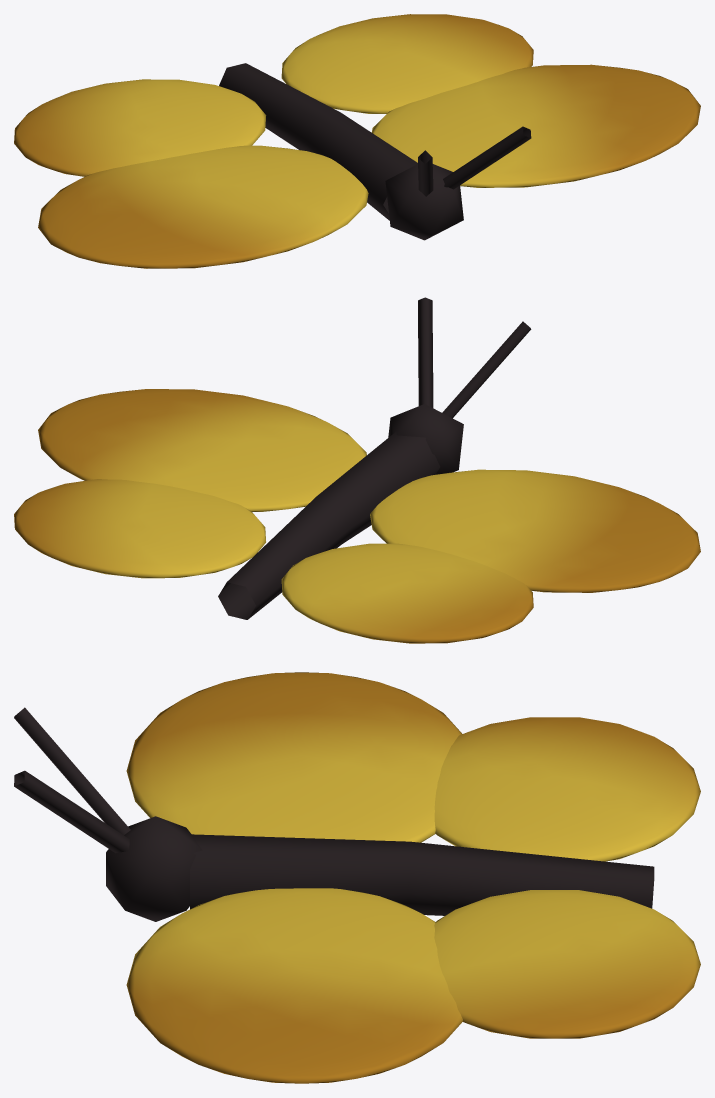
File: critter_butterfly0.glb
The picture shows the model from 3 angles, top to bottom: view 1: azimuth 30°, elevation 25°; view 2: azimuth 150°, elevation 25°; view 3: azimuth 270°, elevation 25°; orthographic projection. The views are drawn at different scales.
Parts seen in each view (by area): view 1: butterfly0_wing_l, butterfly0_wing_r, butterfly0_body; view 2: butterfly0_wing_l, butterfly0_wing_r, butterfly0_body; view 3: butterfly0_wing_r, butterfly0_wing_l, butterfly0_body.
Boxes of the visible parts, x1=… form: butterfly0_wing_l: x1=14, y1=79, x2=368, y2=268; butterfly0_wing_r: x1=281, y1=14, x2=700, y2=187; butterfly0_body: x1=219, y1=63, x2=531, y2=240; butterfly0_wing_l: x1=281, y1=469, x2=700, y2=643; butterfly0_wing_r: x1=14, y1=389, x2=366, y2=578; butterfly0_body: x1=218, y1=297, x2=531, y2=619; butterfly0_wing_r: x1=126, y1=888, x2=700, y2=1083; butterfly0_wing_l: x1=126, y1=672, x2=700, y2=861; butterfly0_body: x1=14, y1=707, x2=654, y2=921.
Bounding box in the file's own units: 0.2 × 0.0415 × 0.1411.
